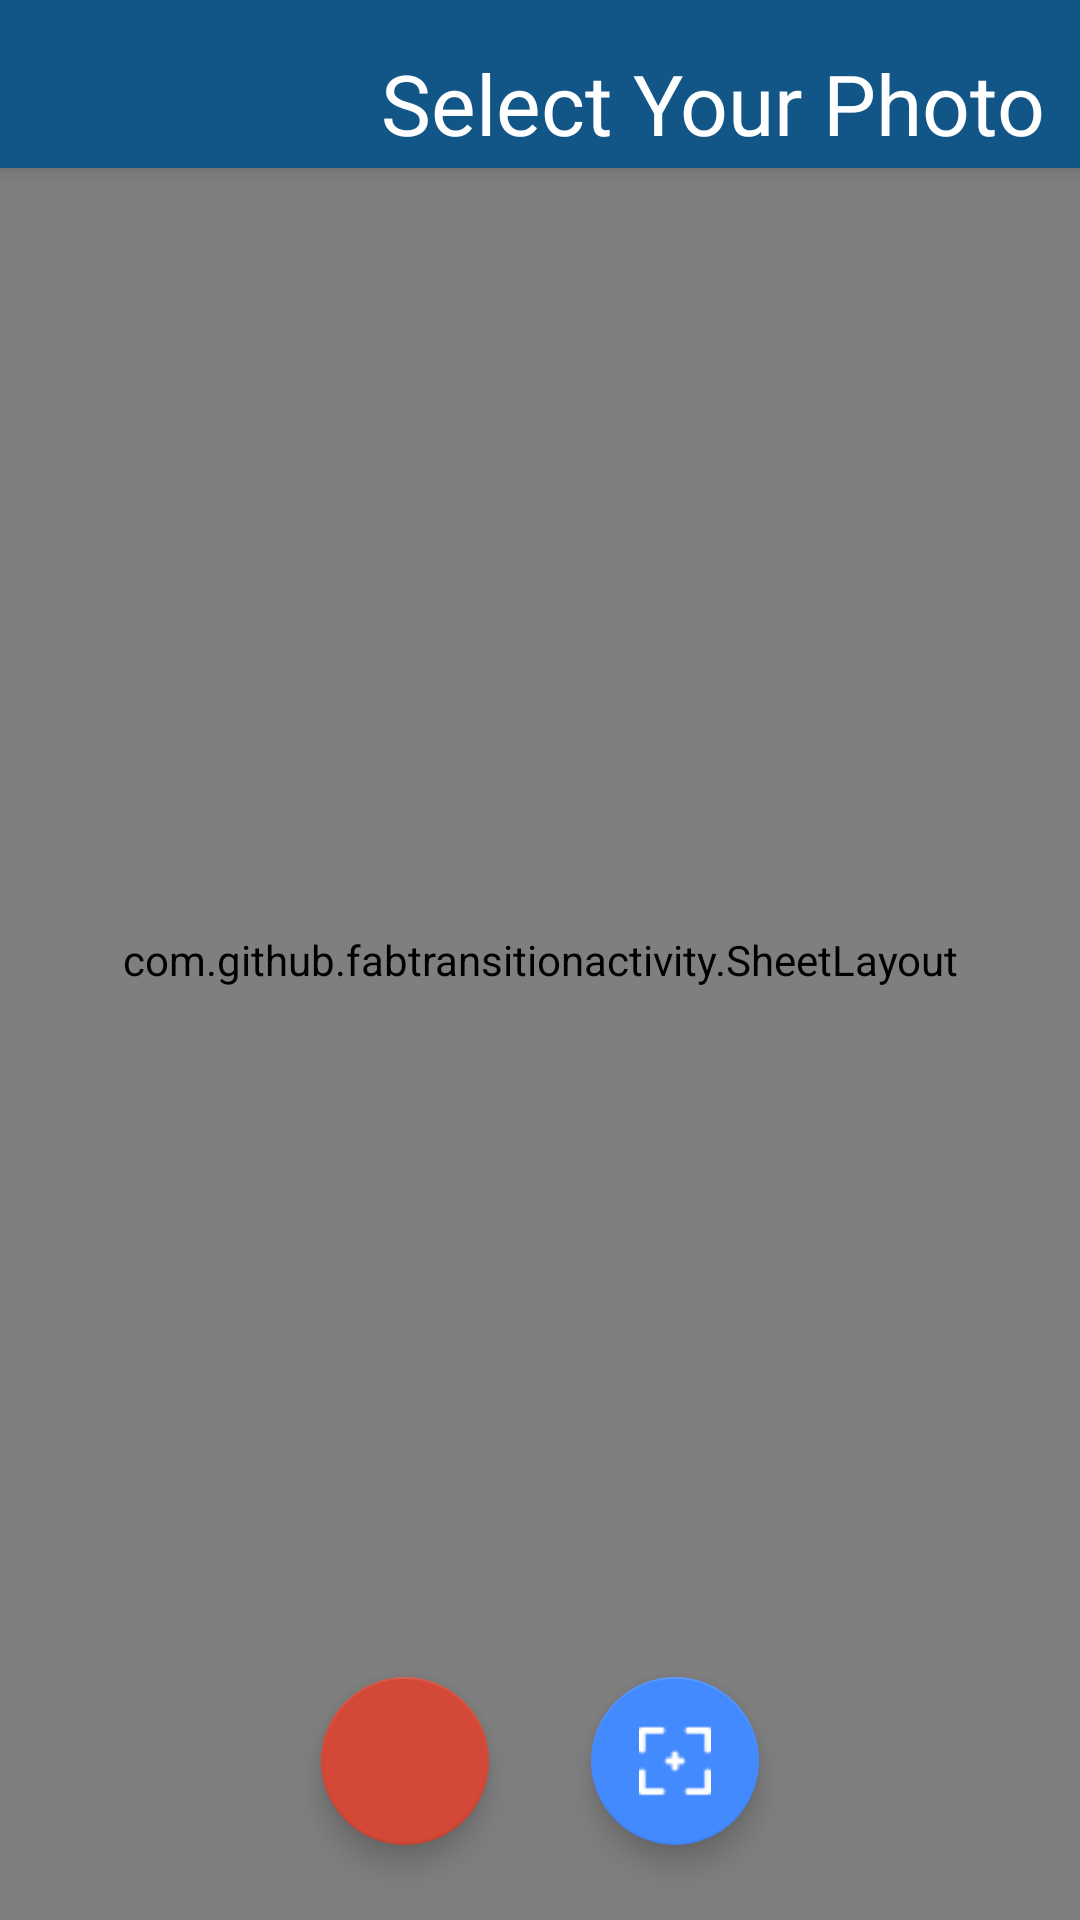

Locate icon controls on the screen. Image size 1080 × 1920, boxes as (x1, y1, x2, y2).
crop: (591, 1677, 759, 1845)
